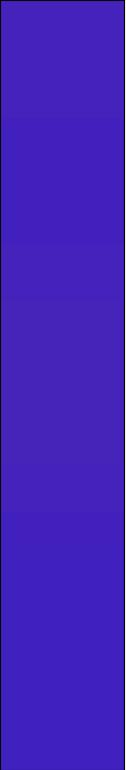safe: (13, 10, 118, 752)
